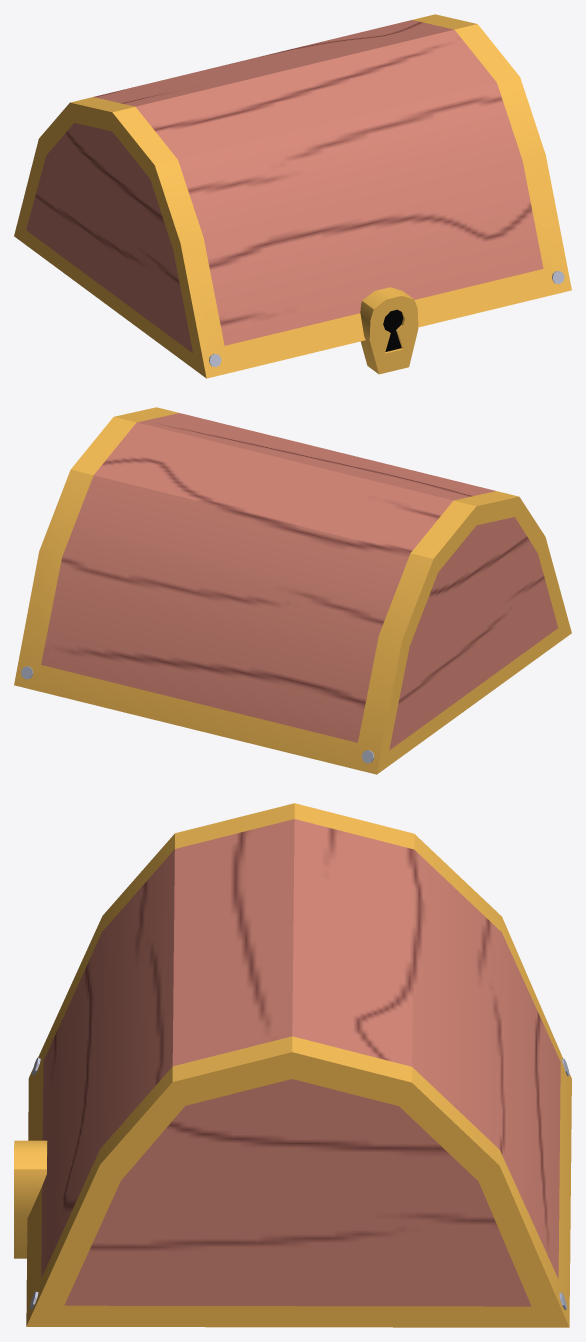
File: Asset_ChestTop.fbx
The picture shows the model from 3 angles, top to bottom: view 1: azimuth 30°, elevation 25°; view 2: azimuth 150°, elevation 25°; view 3: azimuth 270°, elevation 25°; orthographic projection. The views are drawn at different scales.
Parts seen in each view (by area): view 1: Asset_ChestTop; view 2: Asset_ChestTop; view 3: Asset_ChestTop.
Boxes of the visible parts, x1,y1,x2,y2 form: Asset_ChestTop: (14, 14, 571, 378); Asset_ChestTop: (14, 407, 571, 774); Asset_ChestTop: (14, 803, 571, 1327).
Bounding box in the file's own units: 88.46 × 53.01 × 83.48.
